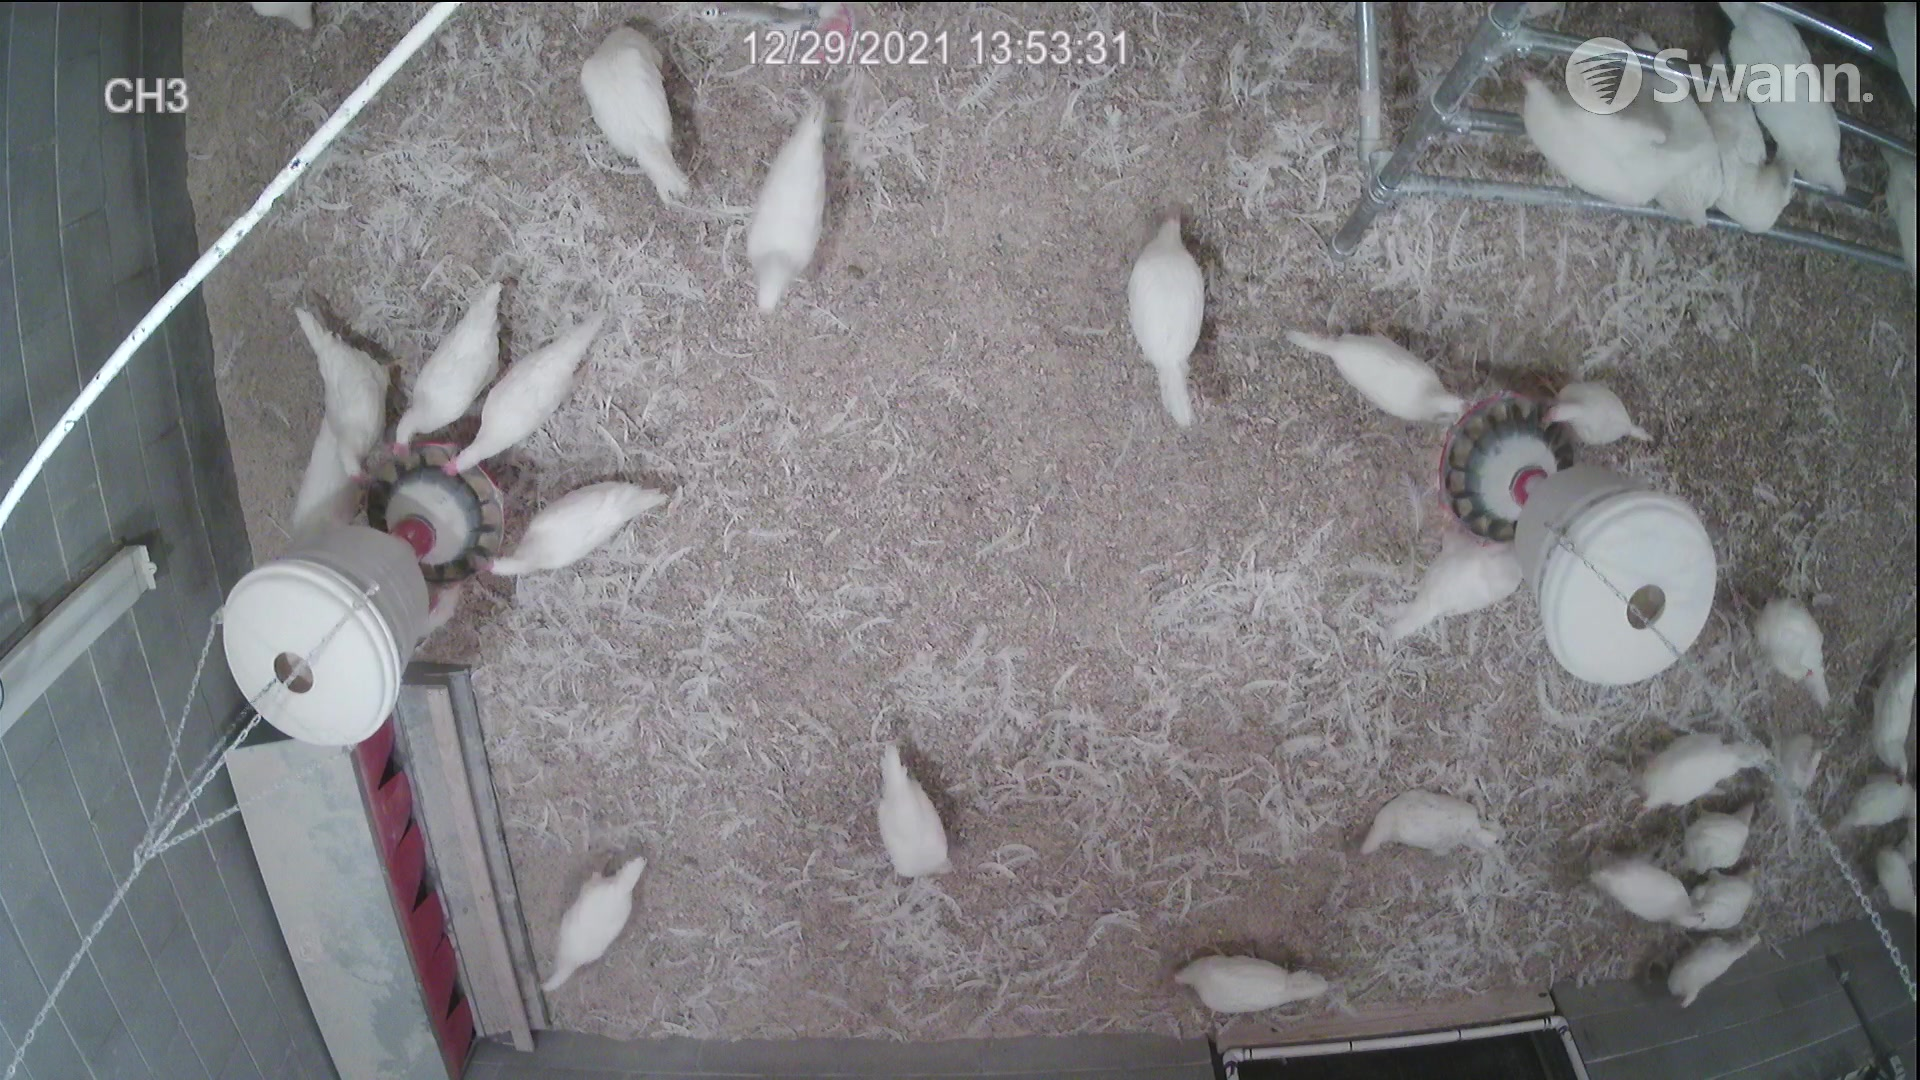Feeding: (440, 302, 615, 469), (1287, 320, 1465, 435), (400, 277, 505, 469), (484, 465, 662, 579), (294, 302, 378, 483), (1515, 364, 1659, 455)
Foraging: (1121, 200, 1225, 440), (579, 12, 695, 204), (538, 855, 669, 1014), (1174, 948, 1338, 1025), (877, 745, 952, 898), (1365, 789, 1487, 880)
Perching: (1509, 74, 1673, 214), (1717, 8, 1846, 179), (1615, 51, 1705, 233), (1706, 83, 1807, 207)
